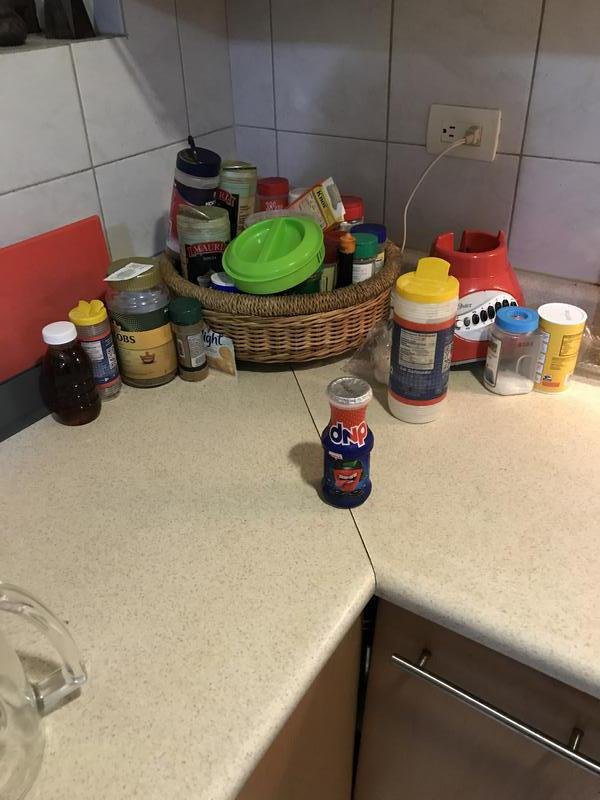danup: (319, 379, 379, 508)
